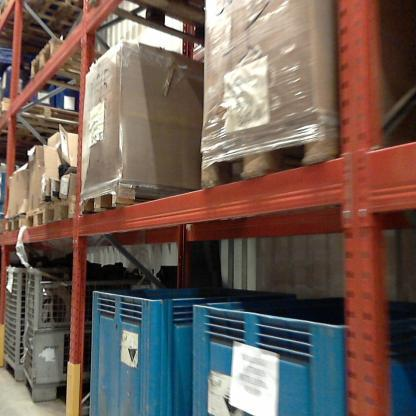pallets: (194, 110, 367, 201), (0, 186, 165, 232), (27, 28, 110, 102)
